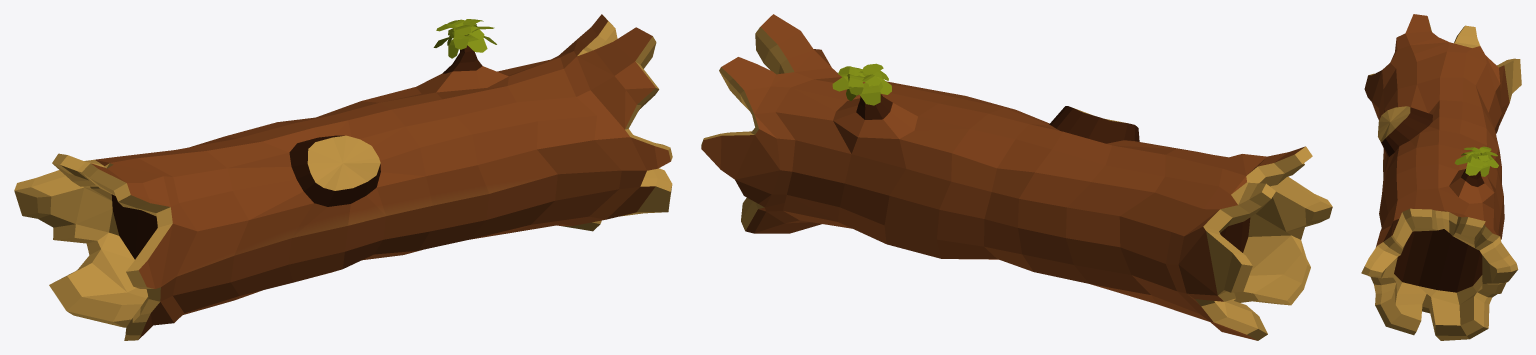
File: tronco.fbx
The picture shows the model from 3 angles, left to right: view 1: azimuth 30°, elevation 25°; view 2: azimuth 150°, elevation 25°; view 3: azimuth 270°, elevation 25°; orthographic projection. The views are drawn at different scales.
Visible parts, largest first — view 1: Tronco; view 2: Tronco; view 3: Tronco.
Part boxes in pixels (left/top/right/bottom): Tronco: left=14, top=14, right=672, bottom=340; Tronco: left=701, top=14, right=1332, bottom=340; Tronco: left=1361, top=14, right=1521, bottom=340.
Bounding box in the file's own units: 216 × 77.38 × 72.7.
